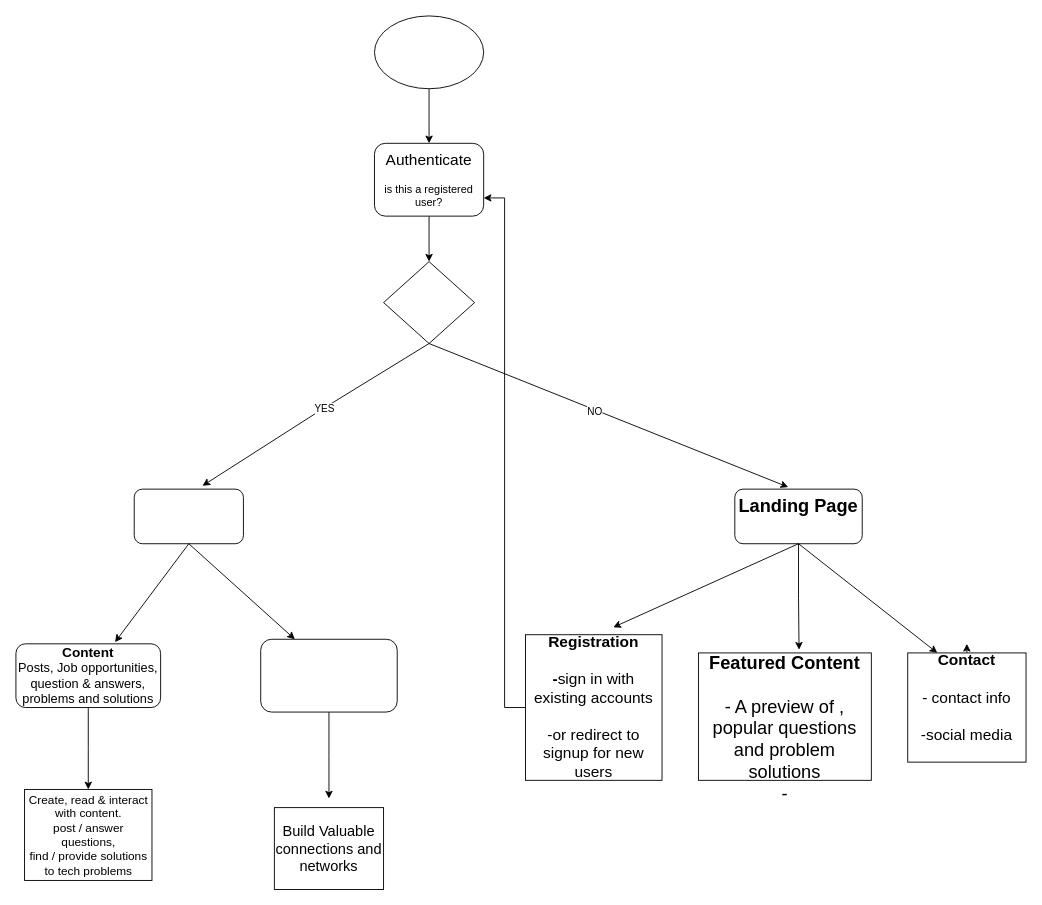
The diagram is 1042 pixels wide and 905 high, and some of its shapes have lost their labels. The shapes that lost their labels are listed below. From the top down, each one's centre as x and y in pixels, then its label:
point (429, 52): Start
point (429, 302): User?
point (188, 516): Home Page
point (328, 675): Community meet, connect,grow
